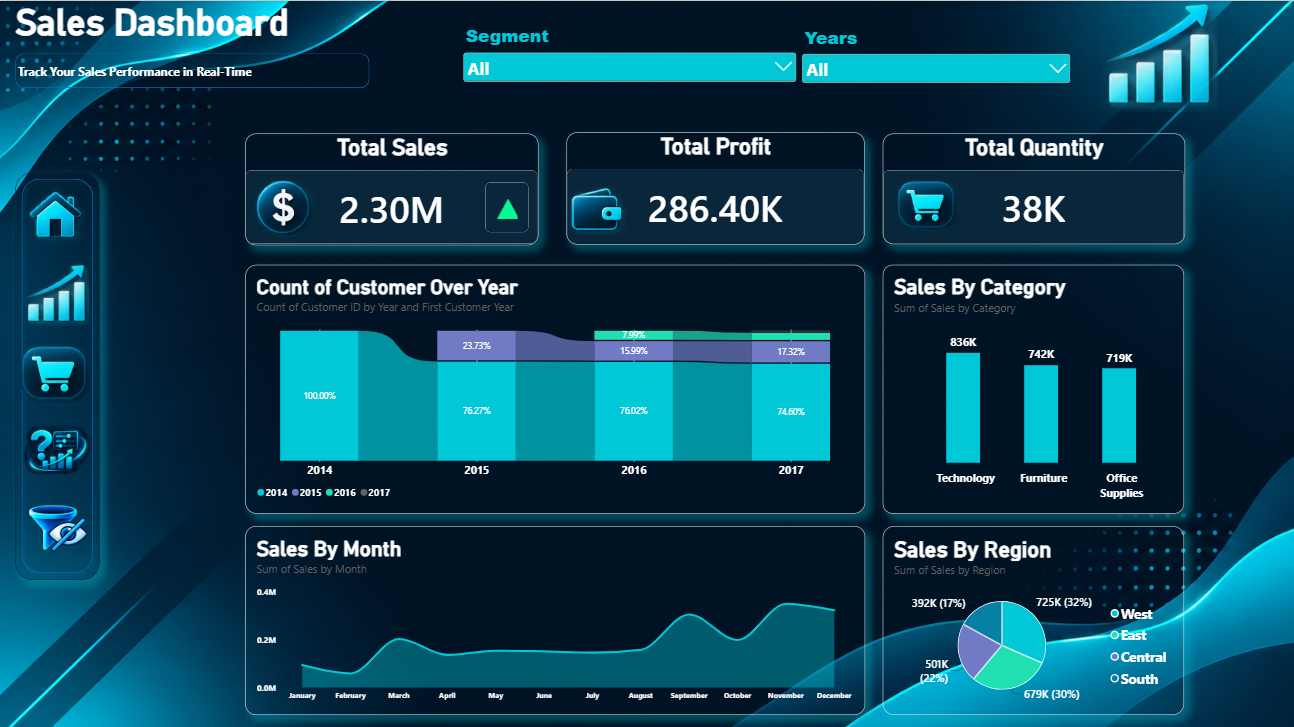

Layout of this report page (visuals, bound fields, positions):
{"tool":"powerbi","page":{"name":"Sales Over View","canvas":[1920,1080],"ordinal":1},"visuals":[{"type":"cardVisual","title":"Total Profit","fields":{"Data":["Sum(Sample - Superstore.Profit)"]},"box":[840,193.9,441.5,166.7],"z":0,"group":"g2"},{"type":"group","id":"g1","title":"Group 1","box":[364.6,195.4,434.5,165.5],"z":0},{"type":"cardVisual","title":"Total Sales","fields":{"Data":["Sum(Sample - Superstore.Sales)"]},"box":[364.6,195.4,434.5,165.5],"z":0,"group":"g1"},{"type":"cardVisual","title":"Total Quantity","fields":{"Data":["Sum(Sample - Superstore.Quantity)"]},"box":[1309.3,196.3,447.8,164.2],"z":0,"group":"g3"},{"type":"group","id":"g2","title":"Group 1","box":[840,193.9,441.8,167.3],"z":1000,"group":"g5"},{"type":"group","id":"g3","title":"Group 1","box":[1309.3,196.3,448.1,164.8],"z":2000,"group":"g6"},{"type":"image","box":[840,272.7,88.3,75.5],"z":3000,"group":"g5"},{"type":"image","box":[373.3,264,99.4,84.7],"z":3002,"group":"g1"},{"type":"image","box":[1309.3,265.1,131.6,80.7],"z":4000,"group":"g6"},{"type":"image","box":[1605.5,0,228.2,163.8],"z":5000},{"type":"shape","box":[23.6,254.5,125.2,603.7],"z":6000,"group":"g4"},{"type":"image","box":[36.5,267.4,99.4,101.2],"z":7000,"group":"g4"},{"type":"image","box":[36.5,368.6,97.5,132.5],"z":8000,"group":"g4"},{"type":"image","box":[23.6,510.3,119.6,92],"z":9000,"group":"g4"},{"type":"image","box":[27.3,622.6,114.1,88.3],"z":10000,"group":"g4"},{"type":"stackedAreaChart","title":"Sales By Month","fields":{"Category":["calender.Date.Variation.Date Hierarchy.Month"],"Y":["Sum(Sample - Superstore.Sales)"]},"box":[364.8,777.8,918.5,279.6],"z":12000},{"type":"columnChart","title":"Sales By Category","fields":{"Category":["Sample - Superstore.Category"],"Y":["Sum(Sample - Superstore.Sales)"]},"box":[1309.3,390.7,446.3,368.5],"z":13000},{"type":"pieChart","title":"Sales By Region","fields":{"Category":["Sample - Superstore.Region"],"Y":["Sum(Sample - Superstore.Sales)"]},"box":[1309.3,777.8,446.3,279.6],"z":14000},{"type":"hundredPercentStackedColumnChart","title":"Count of Customer Over Year","fields":{"Category":["calender.Date.Variation.Date Hierarchy.Year"],"Series":["Customer.First Customer Year"],"Y":["Count(Sample - Superstore.Customer ID)"]},"box":[364.8,390.7,918.5,368.5],"z":15000},{"type":"shape","title":"Sales Dashboard","box":[23.6,0,524.5,128.8],"z":15001},{"type":"slicer","fields":{"Values":["calender.Date.Variation.Date Hierarchy.Year"]},"box":[1185.2,35.2,406.8,128.8],"z":15002},{"type":"slicer","fields":{"Values":["Sample - Superstore.Segment"]},"box":[683.6,32.7,502.5,128.8],"z":15003},{"type":"group","id":"g4","title":"Group 2","box":[23.6,254.5,125.2,603.7],"z":15004},{"type":"group","id":"g5","title":"Group 3","box":[840,193.9,441.8,167.3],"z":15005},{"type":"group","id":"g6","title":"Group 4","box":[1309.3,196.3,448.1,164.8],"z":15006},{"type":"image","box":[35.2,731.5,100,94.4],"z":15008},{"type":"cardVisual","fields":{"Data":["Sample - Superstore.Arrow"]},"box":[720.4,268.5,64.8,74.1],"z":15009}]}

Visuals, with their boxes in screenshot pixels (x1, y1, x2, y2), scaled from the page's 1920x1080 canvas onto the 1294x727 screenshot:
"Total Profit" cardVisual: BBox(566, 131, 864, 243)
"Group 1" group: BBox(246, 132, 539, 243)
"Total Sales" cardVisual: BBox(246, 132, 539, 243)
"Total Quantity" cardVisual: BBox(882, 132, 1184, 243)
"Group 1" group: BBox(566, 131, 864, 243)
"Group 1" group: BBox(882, 132, 1184, 243)
image: BBox(566, 184, 626, 234)
image: BBox(252, 178, 319, 235)
image: BBox(882, 178, 971, 233)
image: BBox(1082, 0, 1236, 110)
shape: BBox(16, 171, 100, 578)
image: BBox(25, 180, 92, 248)
image: BBox(25, 248, 90, 337)
image: BBox(16, 344, 97, 405)
image: BBox(18, 419, 95, 479)
"Sales By Month" stackedAreaChart: BBox(246, 524, 865, 712)
"Sales By Category" columnChart: BBox(882, 263, 1183, 511)
"Sales By Region" pieChart: BBox(882, 524, 1183, 712)
"Count of Customer Over Year" hundredPercentStackedColumnChart: BBox(246, 263, 865, 511)
"Sales Dashboard" shape: BBox(16, 0, 369, 87)
slicer - calender.Date.Variation.Date Hierarchy.Year: BBox(799, 24, 1073, 110)
slicer - Sample - Superstore.Segment: BBox(461, 22, 799, 109)
"Group 2" group: BBox(16, 171, 100, 578)
"Group 3" group: BBox(566, 131, 864, 243)
"Group 4" group: BBox(882, 132, 1184, 243)
image: BBox(24, 492, 91, 556)
cardVisual - Sample - Superstore.Arrow: BBox(486, 181, 529, 231)
